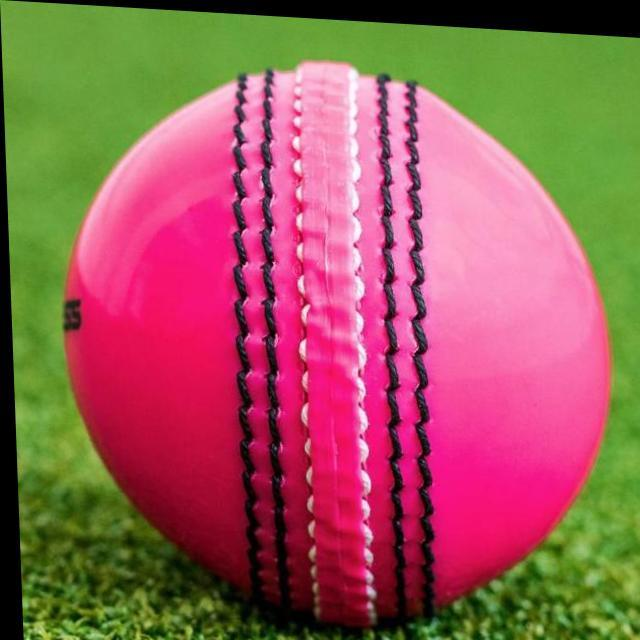cricket ball: (60, 55, 610, 622)
